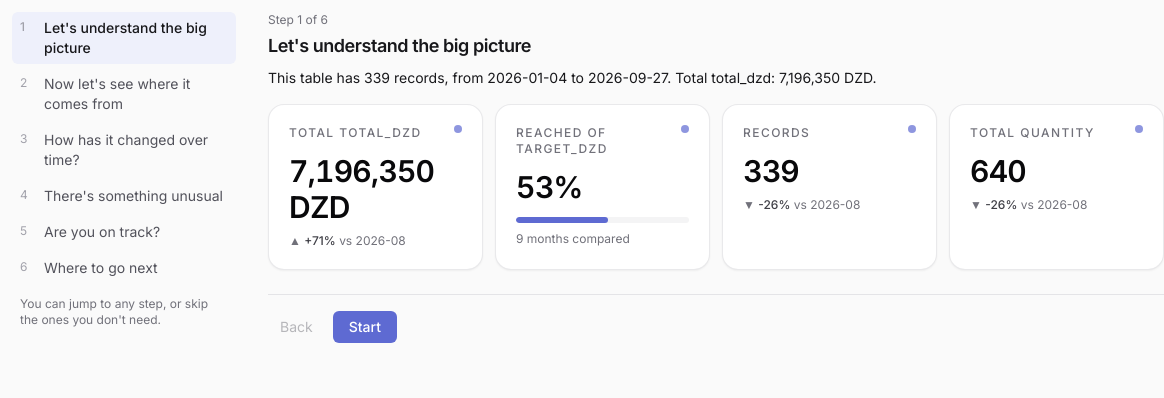
Test: the tour › moves forward and back, and the stepper marks what has been visited
Step 1. Click the button "Start" → click(365, 327), box [333,311,397,343]
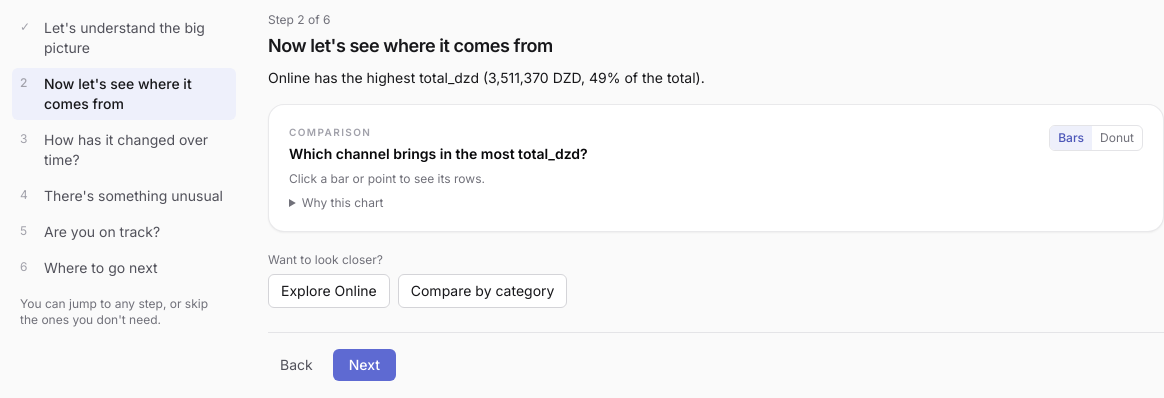
Check: the heading "Now let's see where it comes from" is shown, box [268,35,553,56]
Check: the text "Online has the highest total_dzd (3,511,370 DZD, 49% of the total)." is shown, box [268,69,705,86]
Step 2. Click the button "Back" → click(296, 365), box [268,349,325,381]
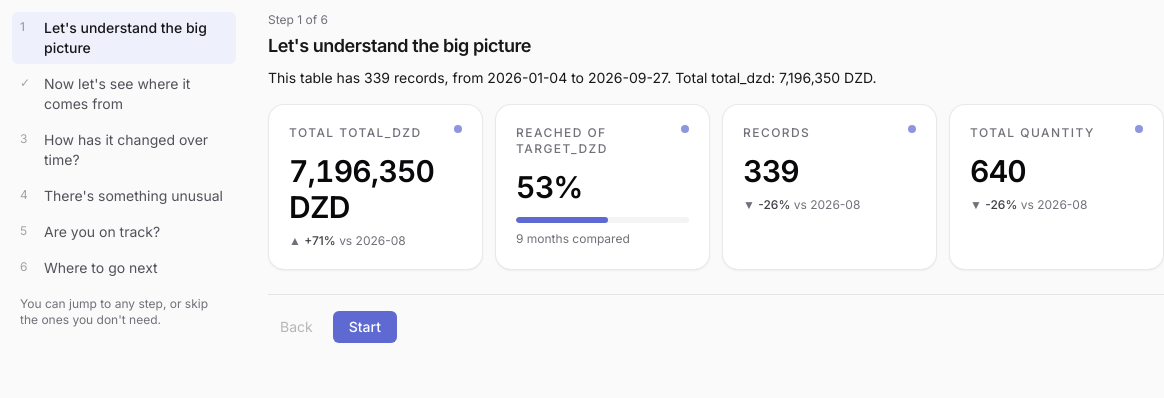
Check: the heading "Let's understand the big picture" is shown, box [268,35,531,56]
Check: the button "Back" is disabled, box [268,311,325,343]
Check: the button "✓ Now let's see where it comes from" is shown, box [12,68,236,120]
